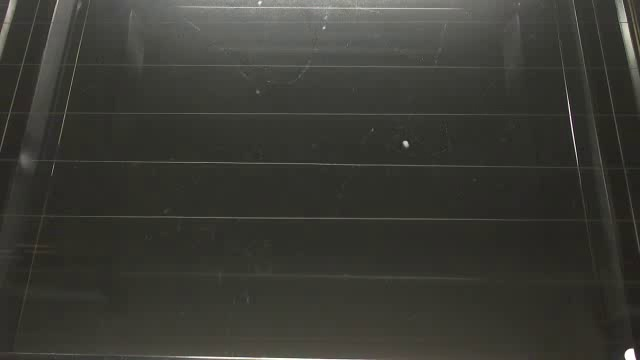Alfa: (402, 141, 411, 152)
